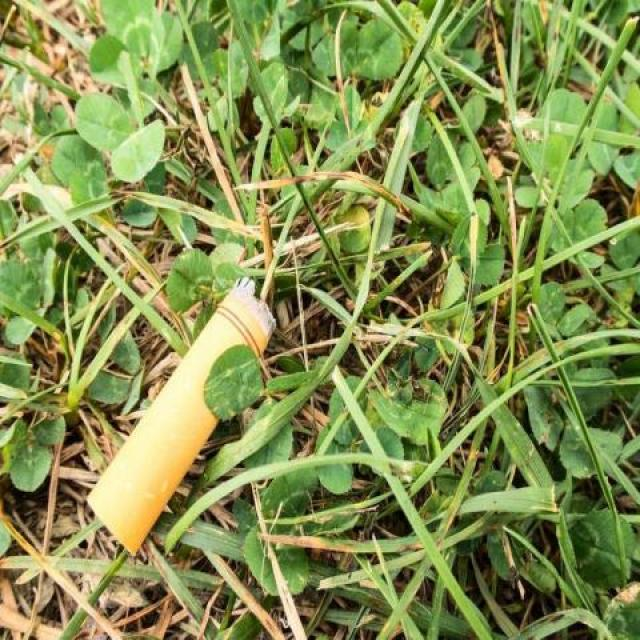non-organic waste: (73, 264, 290, 567)
